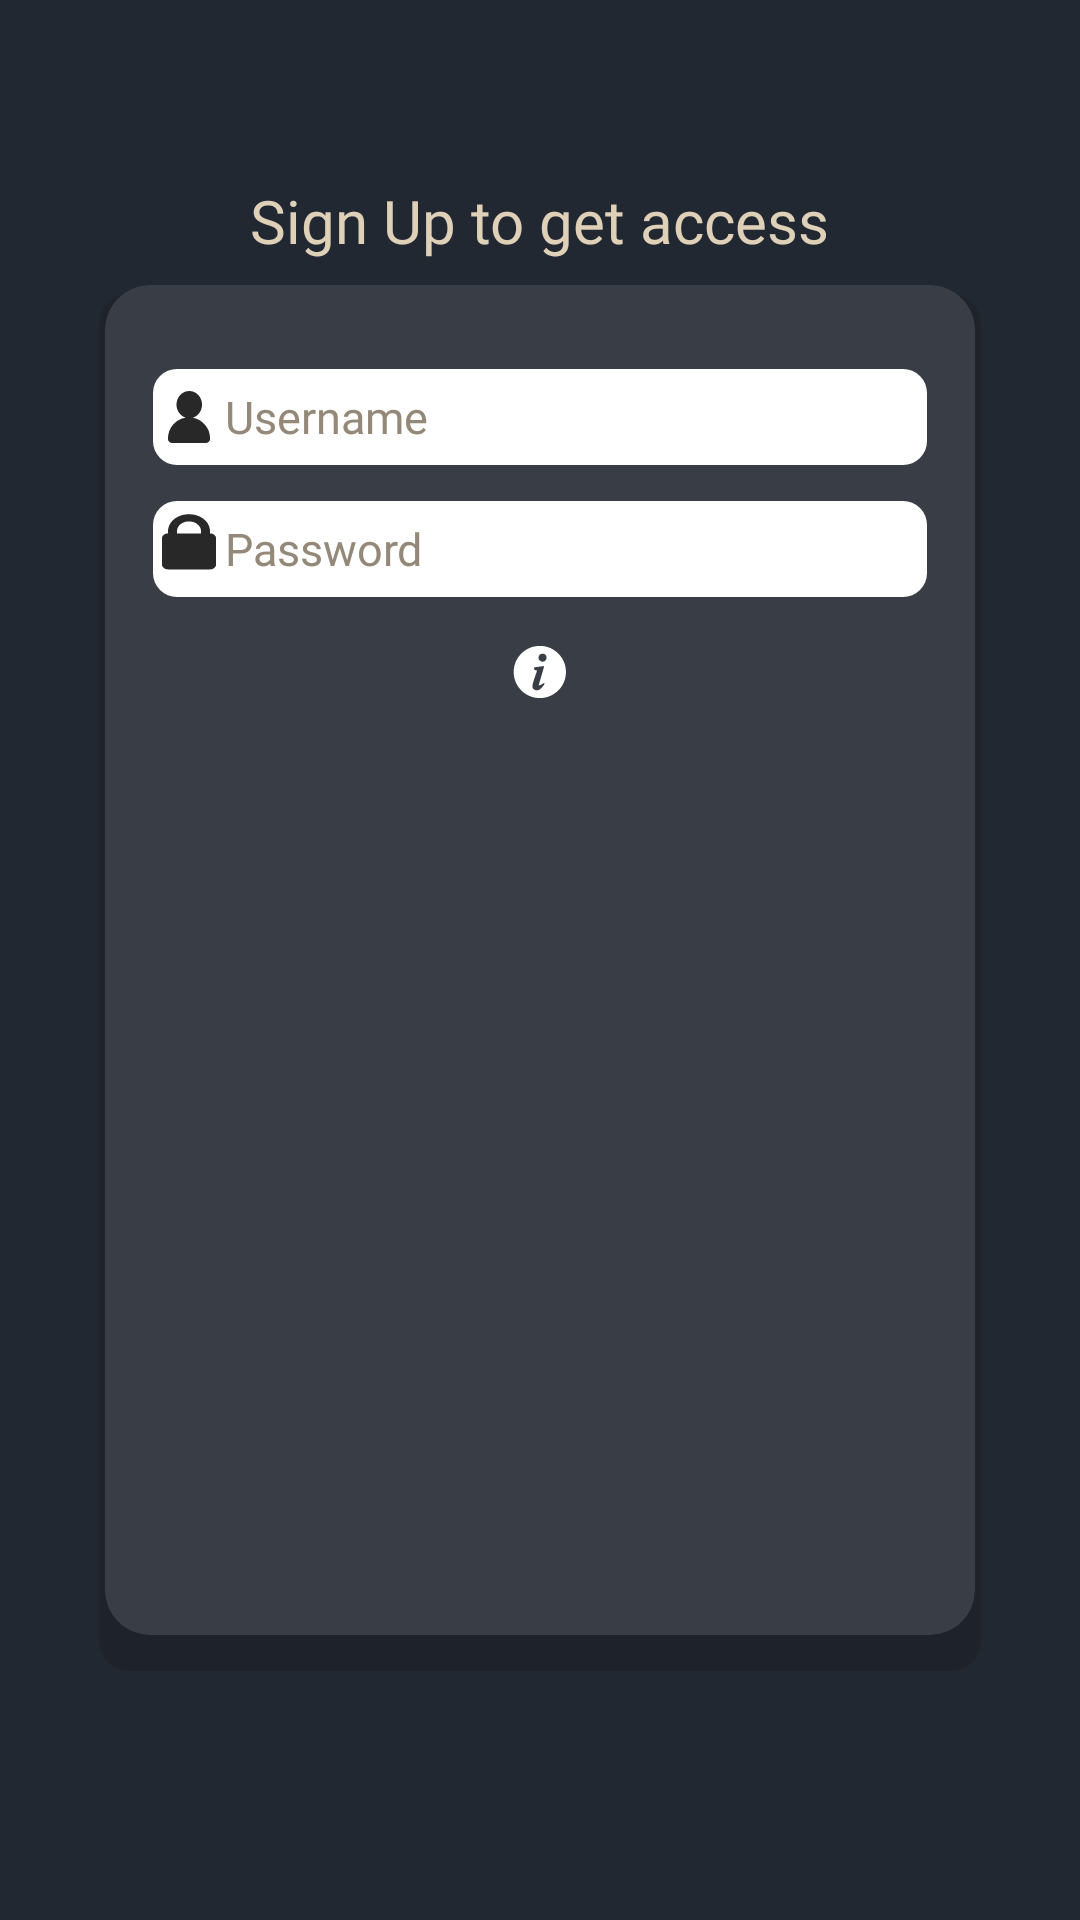

Icon click points for this 1080px x 1920px phone screenshot, format [x,y]:
info: [539,672]
